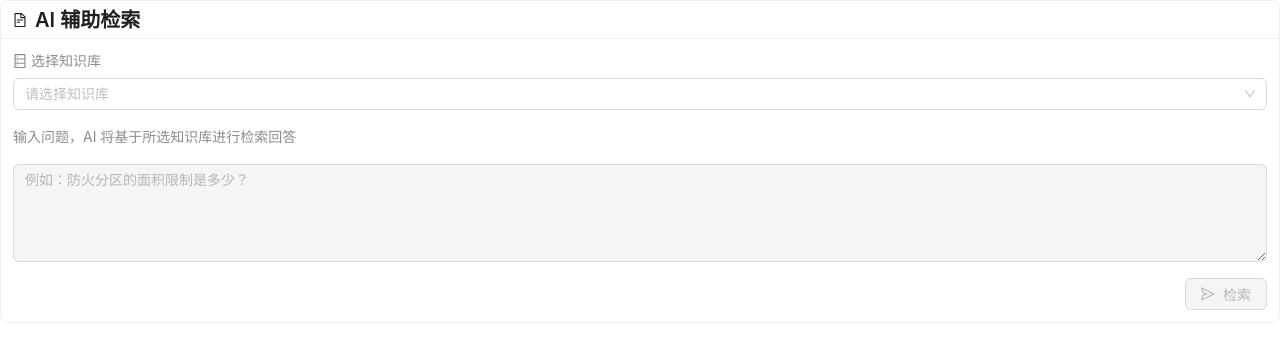
Test: RagPanel › 选择知识库并输入问题后检索按钮应启用
This screenshot has width=1280, height=340.
Press the mouse on the dropdown named "选择知识库" at (631, 94), box [25, 79, 1237, 109]
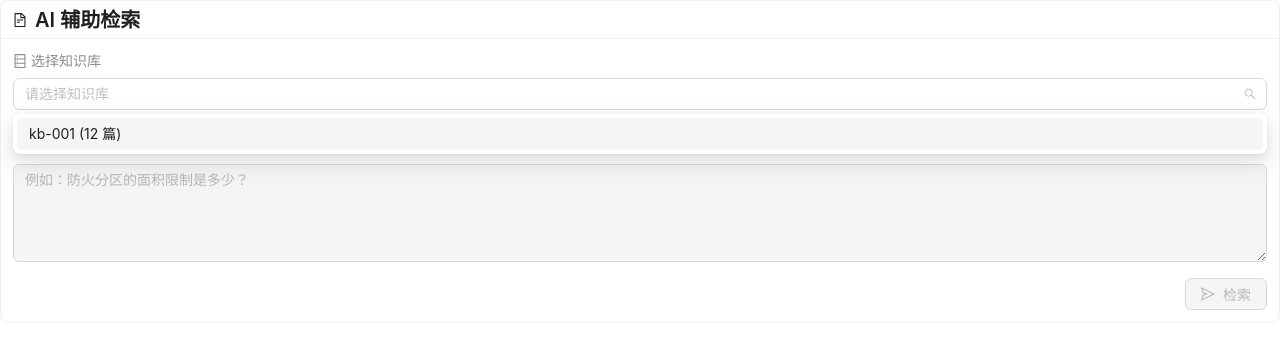
// antd Select 选项在 portal 中渲染，使用 findByText 等待选项出现
Click the text "kb-001 (12 篇)" at (75, 134), box [29, 125, 121, 142]
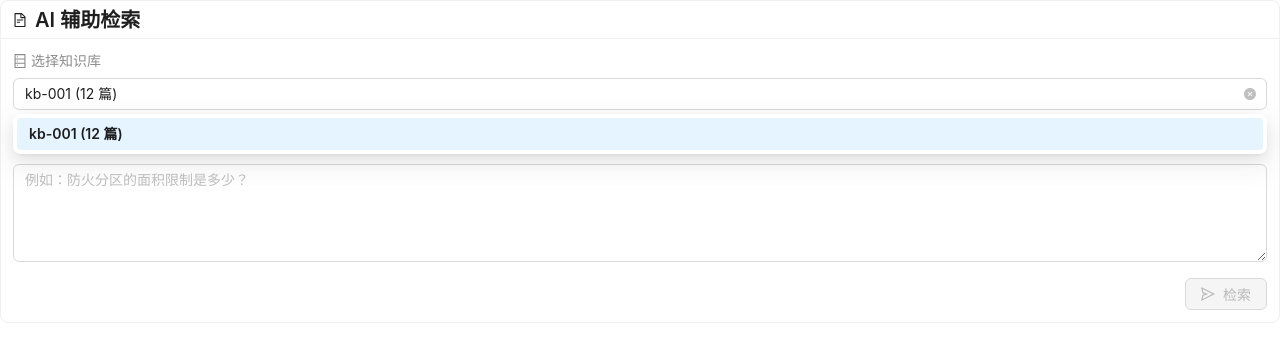
Type "防火分区面积？" into the text box with placeholder "例如：防火分区的面积限制是多少？" at (640, 213), box [13, 164, 1267, 262]
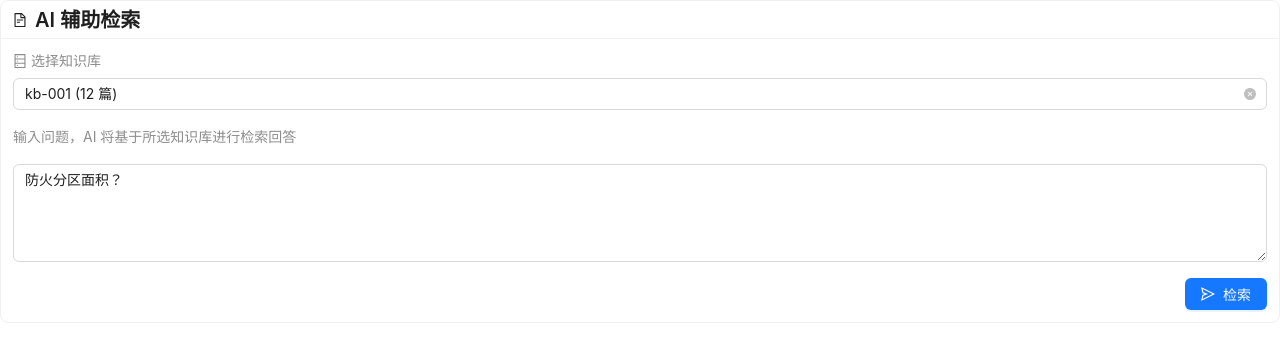
Expected: the button "检索" is enabled, [1185, 278, 1267, 310]
